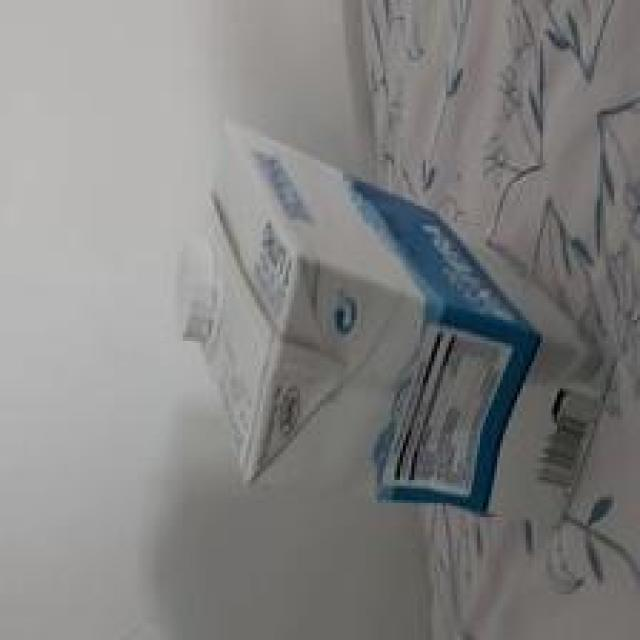Carton: (169, 109, 604, 552)
